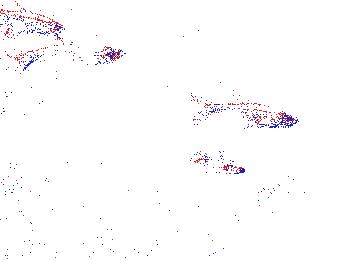X-ray fish: (246, 171, 328, 220)
red belly glassfish: (192, 147, 247, 175)
redtail glassfish: (187, 93, 301, 137), (6, 42, 125, 77), (1, 4, 67, 39)
